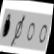correct: (0, 11, 13, 41)
